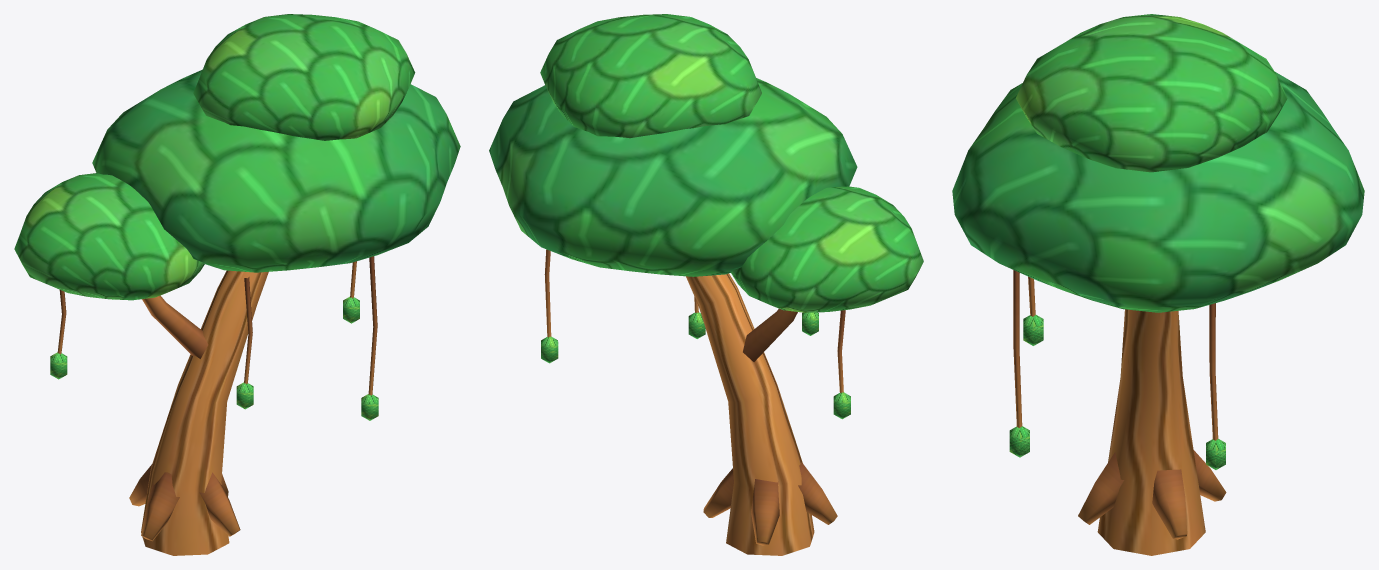
File: jungle_tree_2.glb
3 renders of one model, left to right at view 1: azimuth 30°, elevation 25°; view 2: azimuth 150°, elevation 25°; view 3: azimuth 270°, elevation 25°, orthographic. The views are drawn at different scales.
Parts seen in each view (by area): view 1: jungle_tree_2; view 2: jungle_tree_2; view 3: jungle_tree_2.
Part boxes in pixels (<box>): jungle_tree_2: <box>14,14,460,555</box>; jungle_tree_2: <box>489,14,923,555</box>; jungle_tree_2: <box>952,14,1364,555</box>.
Size of the model in its own units: 8.5 by 9.21 by 6.1.
Materials: 2 (2 with a texture image).
